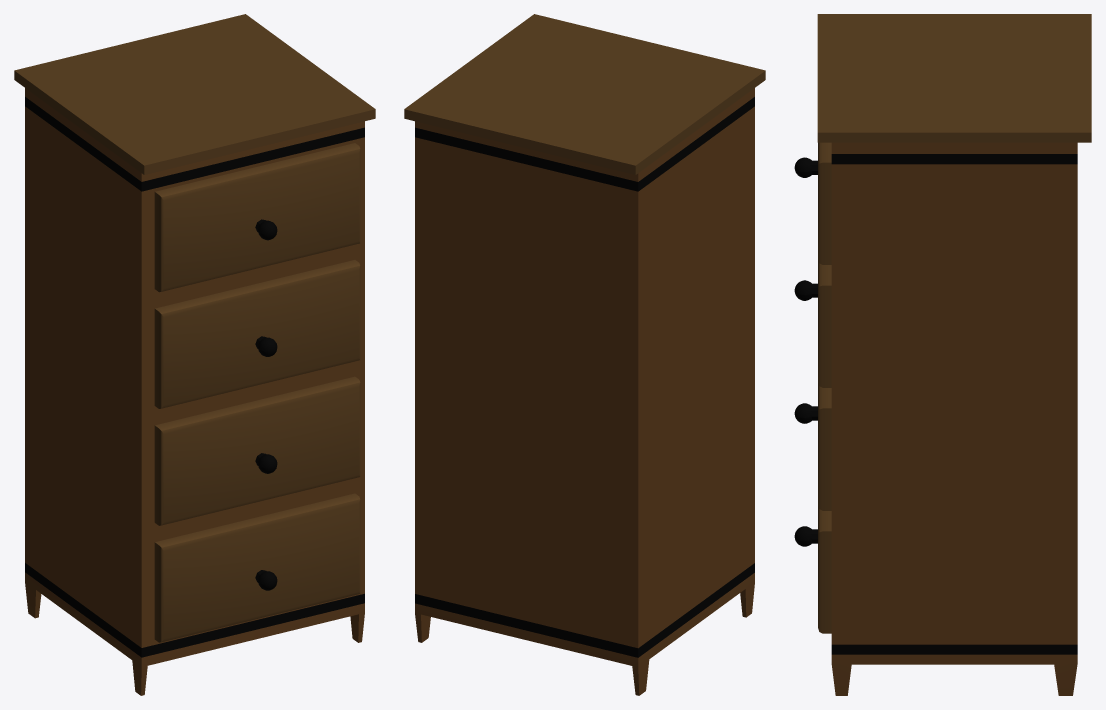
Rendered from MUEBLE_Alto.fbx.
The picture shows the model from 3 angles, left to right: view 1: azimuth 30°, elevation 25°; view 2: azimuth 150°, elevation 25°; view 3: azimuth 270°, elevation 25°; orthographic projection. The views are drawn at different scales.
Visible parts, largest first — view 1: Cube.013, Cube.015, Cube.014; view 2: Cube.013, Cube.014; view 3: Cube.013, Cube.014, Cube.015.
Boxes of the visible parts, x1,y1,x2,y2 form: Cube.013: (25, 88, 364, 695); Cube.015: (154, 143, 360, 642); Cube.014: (14, 14, 375, 174); Cube.013: (415, 88, 754, 695); Cube.014: (404, 14, 765, 174); Cube.013: (831, 142, 1077, 695); Cube.014: (817, 14, 1091, 142); Cube.015: (794, 142, 831, 633).
Size of the model in its own units: 193 by 429 by 204.
